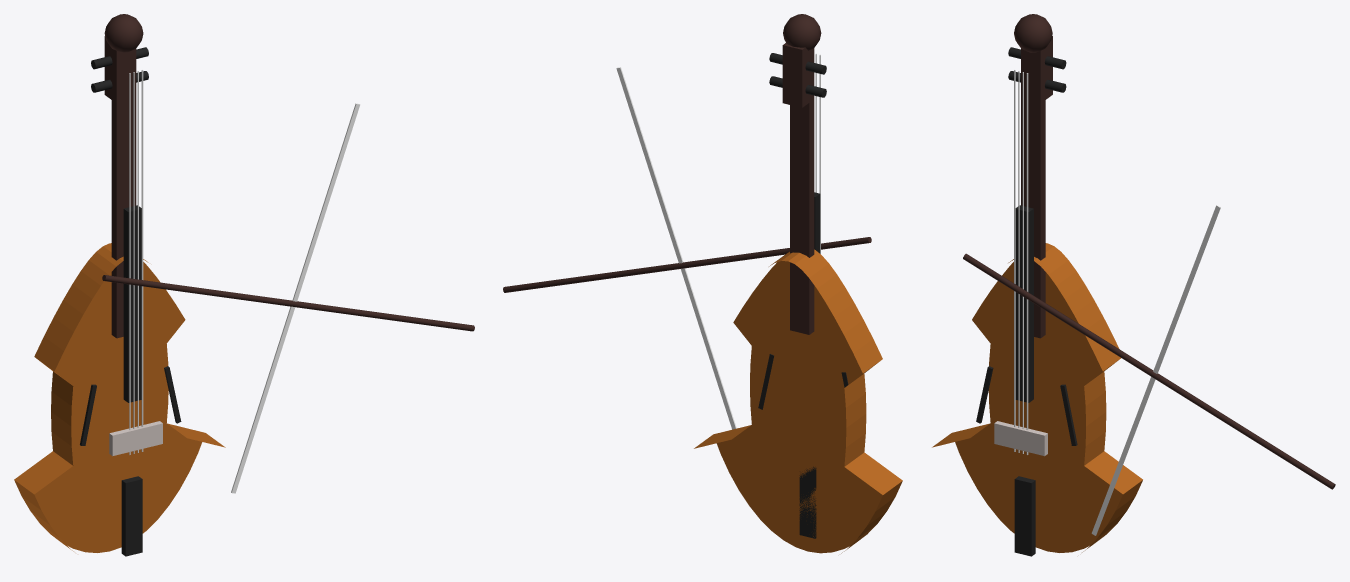
File: violin.glb
The picture shows the model from 3 angles, left to right: view 1: azimuth 30°, elevation 25°; view 2: azimuth 150°, elevation 25°; view 3: azimuth 330°, elevation 25°; orthographic projection.
Visible parts, largest first — view 1: violin; view 2: violin; view 3: violin.
Part boxes in pixels (<box>): violin: <box>14,14,474,556</box>; violin: <box>503,14,902,553</box>; violin: <box>932,14,1335,556</box>.
Size of the model in its own units: 3.01 by 3.72 by 0.495.
